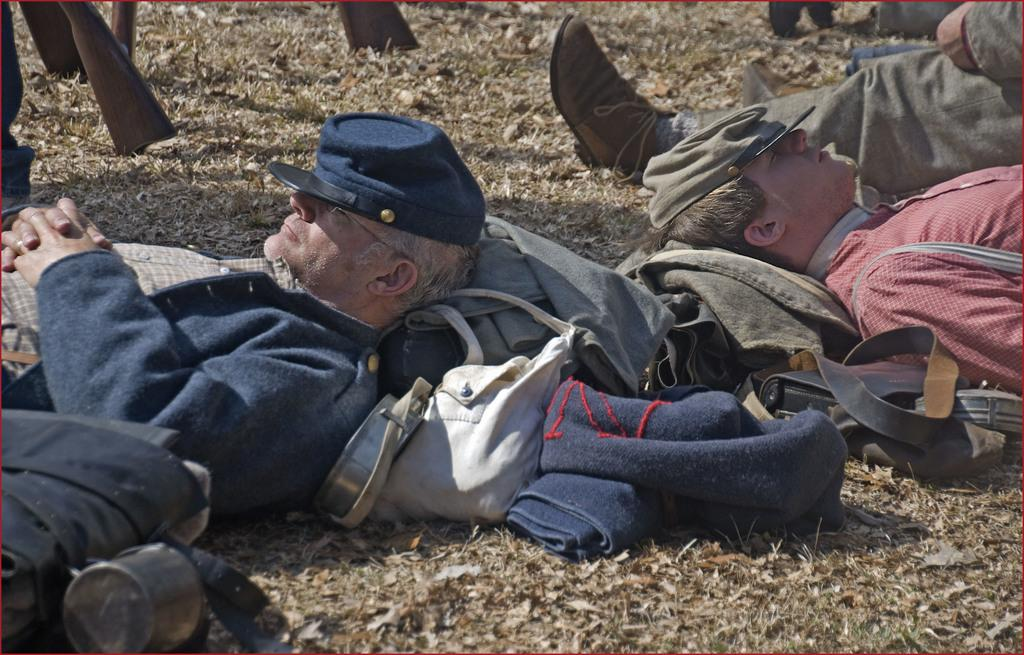Hat: (266, 110, 484, 244), (644, 103, 816, 229)
